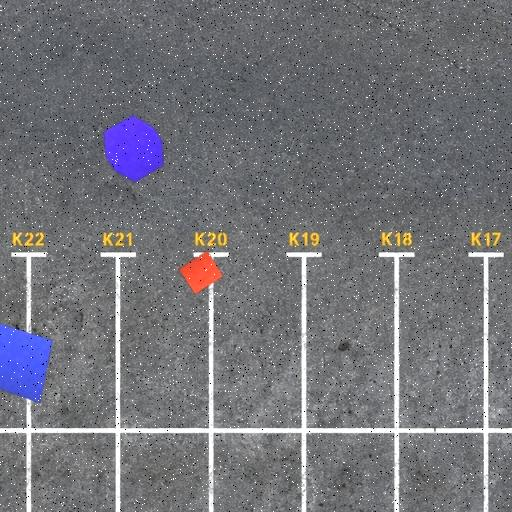BLUE_SQUARE: (0, 320, 53, 404)
RED_SQUARE: (178, 250, 224, 294)
